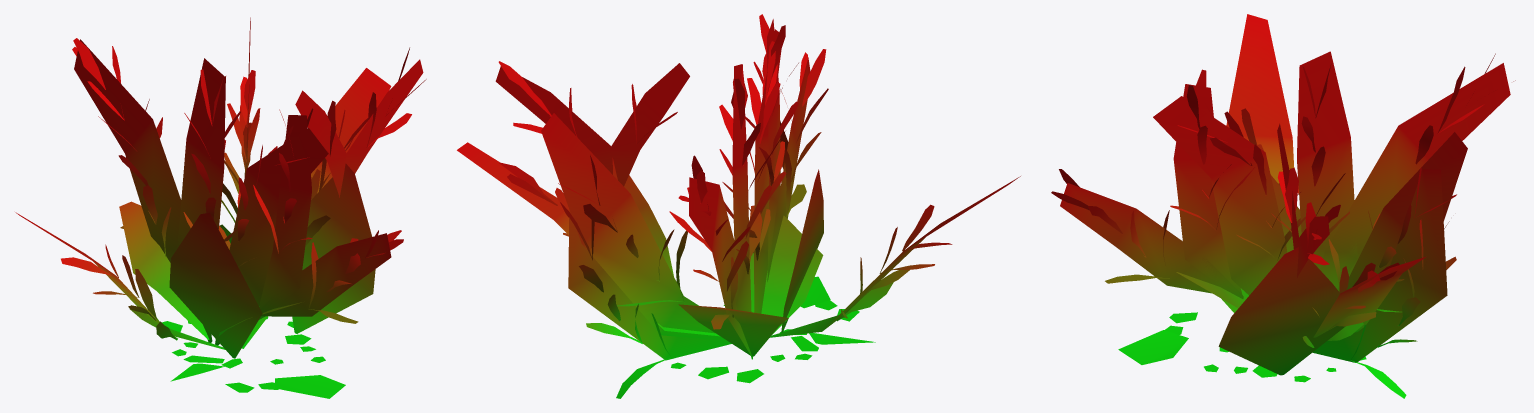
Rendered from River Saltbush_LOD3_Var11_vdfpcgbia.fbx.
3 renders of one model, left to right at view 1: azimuth 30°, elevation 25°; view 2: azimuth 150°, elevation 25°; view 3: azimuth 270°, elevation 25°, orthographic. The views are drawn at different scales.
Parts seen in each view (by area): view 1: _fdj2_Var11_LOD3; view 2: _fdj2_Var11_LOD3; view 3: _fdj2_Var11_LOD3.
Boxes of the visible parts, bbox=[...] form: _fdj2_Var11_LOD3: bbox=[15, 17, 426, 398]; _fdj2_Var11_LOD3: bbox=[457, 14, 1020, 398]; _fdj2_Var11_LOD3: bbox=[1051, 14, 1515, 398].
Size of the model in its own units: 22.67 by 14.46 by 19.8.
